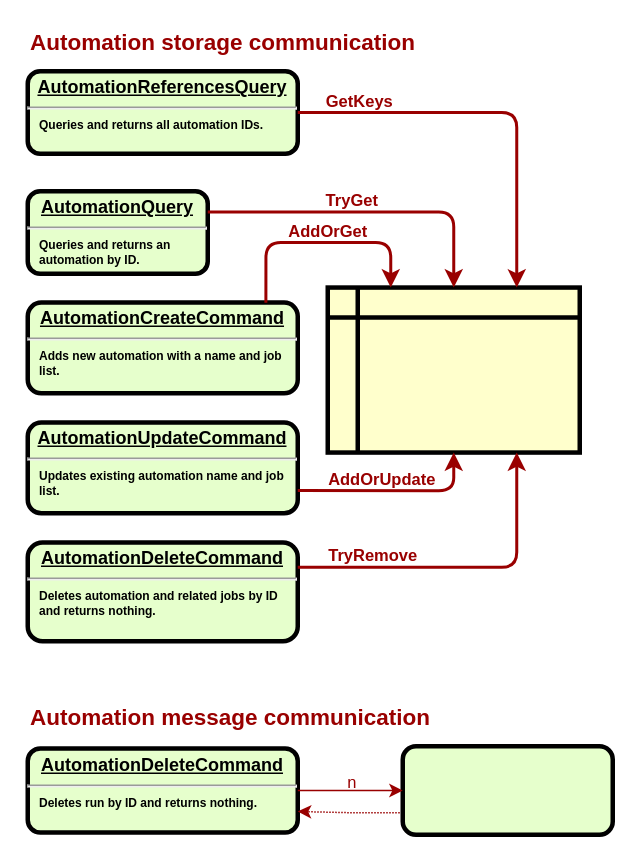
This 641x863 diagram has some shape labels left out. The shapes that lost their labels are listed below. From the top down, each one's box as (x1, y1, x2, y2) in pixels, then its label:
(325, 285, 581, 454): Automation storage
(400, 743, 614, 836): JobDeleteCommand Deletes job by ID and returns nothing.
